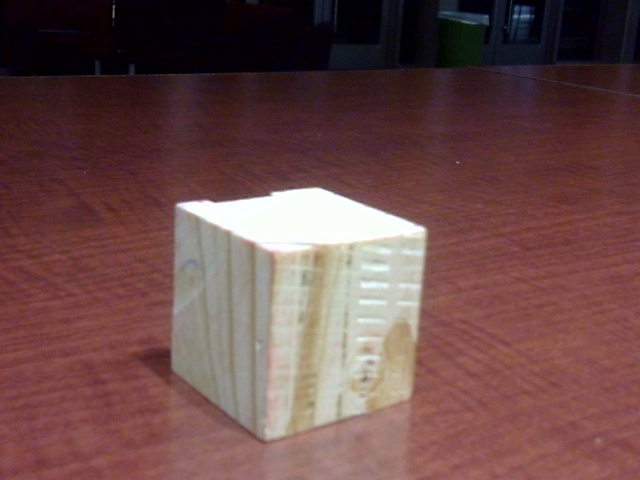NormalBlock: (172, 203, 426, 443)
